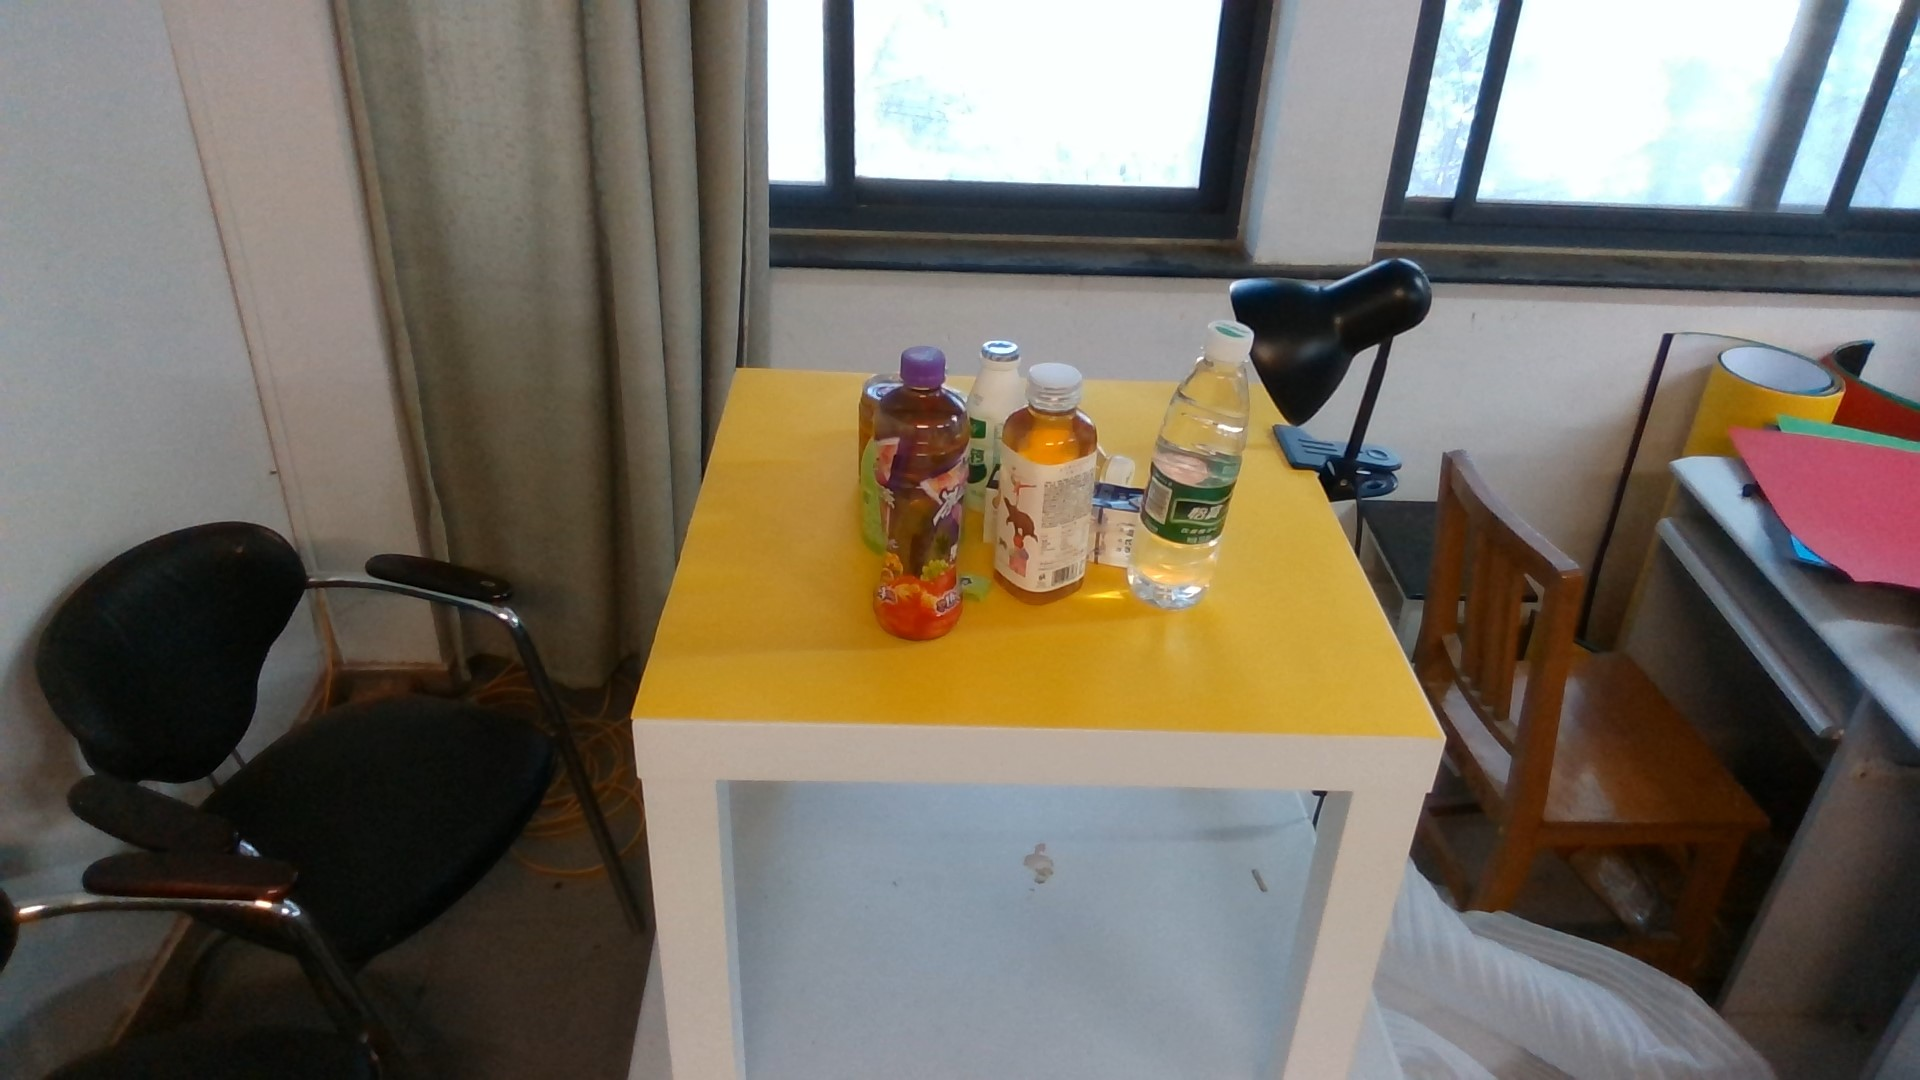BB010: (1091, 483, 1143, 564)
ZA002: (858, 434, 882, 538)
ZC004: (858, 375, 877, 435)
ZC005: (965, 342, 1027, 410)
ZC009: (876, 345, 963, 637)
ZC012: (997, 359, 1088, 600)
ZC017: (1145, 319, 1255, 603)
